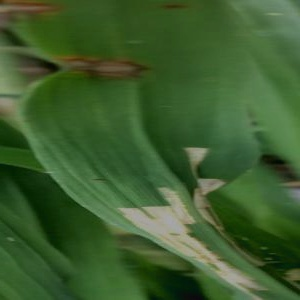Brown_Spot: (37, 47, 149, 84)
